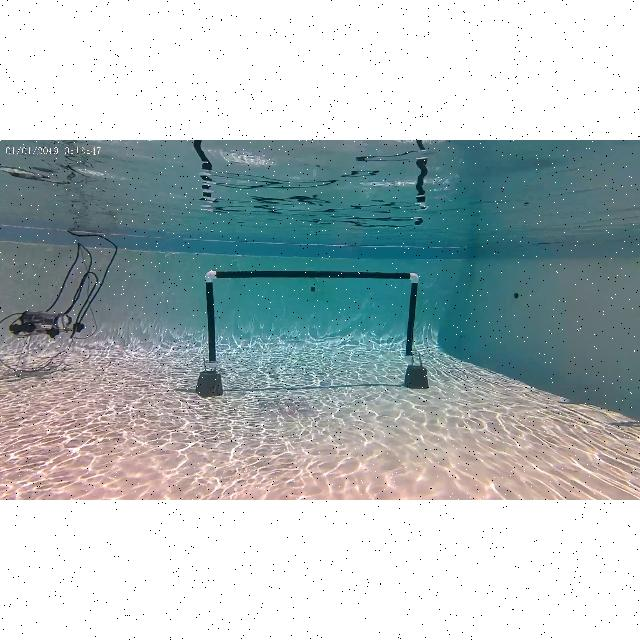prequal gate: (205, 268, 419, 368)
prequal gate leg l: (200, 273, 227, 391)
prequal gate leg r: (408, 272, 426, 388)
